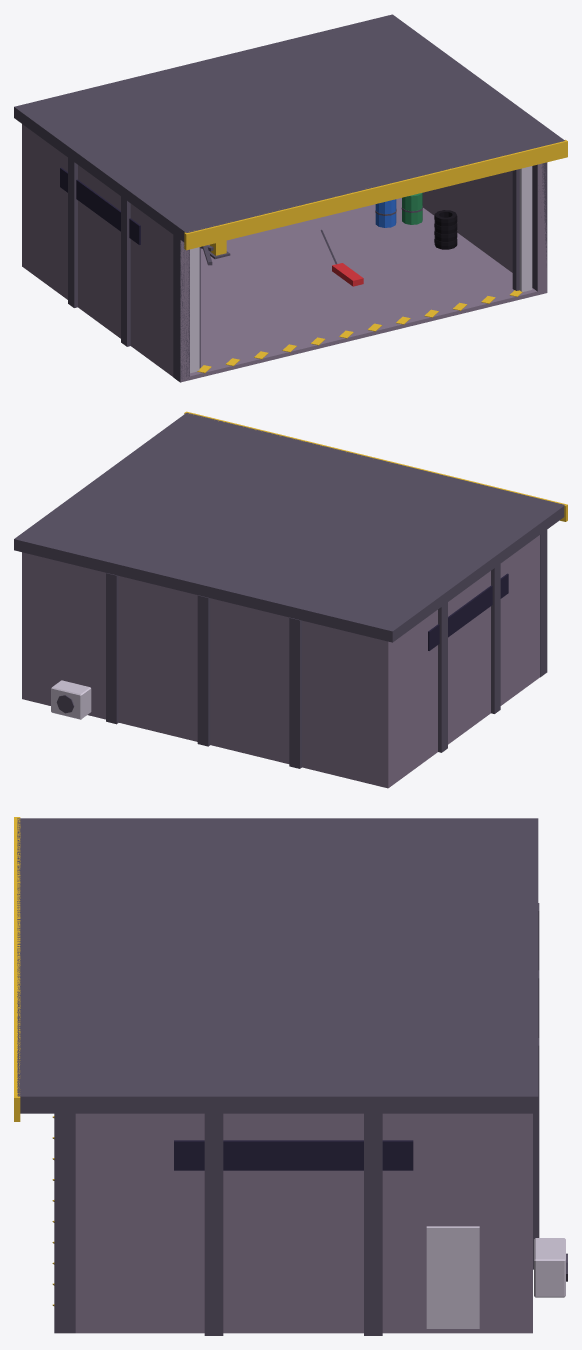
Rendered from garage.glb.
The picture shows the model from 3 angles, top to bottom: view 1: azimuth 30°, elevation 25°; view 2: azimuth 150°, elevation 25°; view 3: azimuth 270°, elevation 25°; orthographic projection. The views are drawn at different scales.
Parts seen in each view (by area): view 1: garage; view 2: garage; view 3: garage.
Part boxes in pixels (bbox=[...]): garage: bbox=[14, 14, 567, 382]; garage: bbox=[14, 411, 567, 788]; garage: bbox=[14, 817, 567, 1335].
Bounding box in the file's own units: 12.5 × 5 × 10.42.
